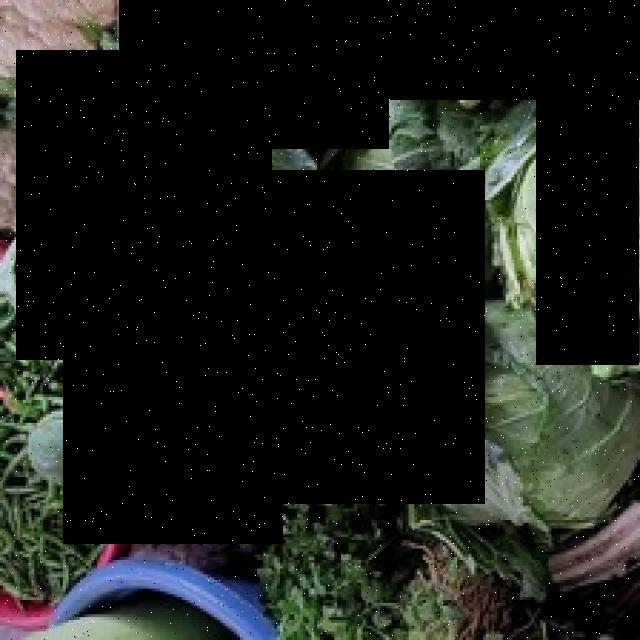Cabbage: (16, 50, 272, 360), (265, 170, 486, 504), (64, 294, 284, 544), (120, 0, 390, 149), (536, 69, 640, 365), (384, 0, 640, 100)
